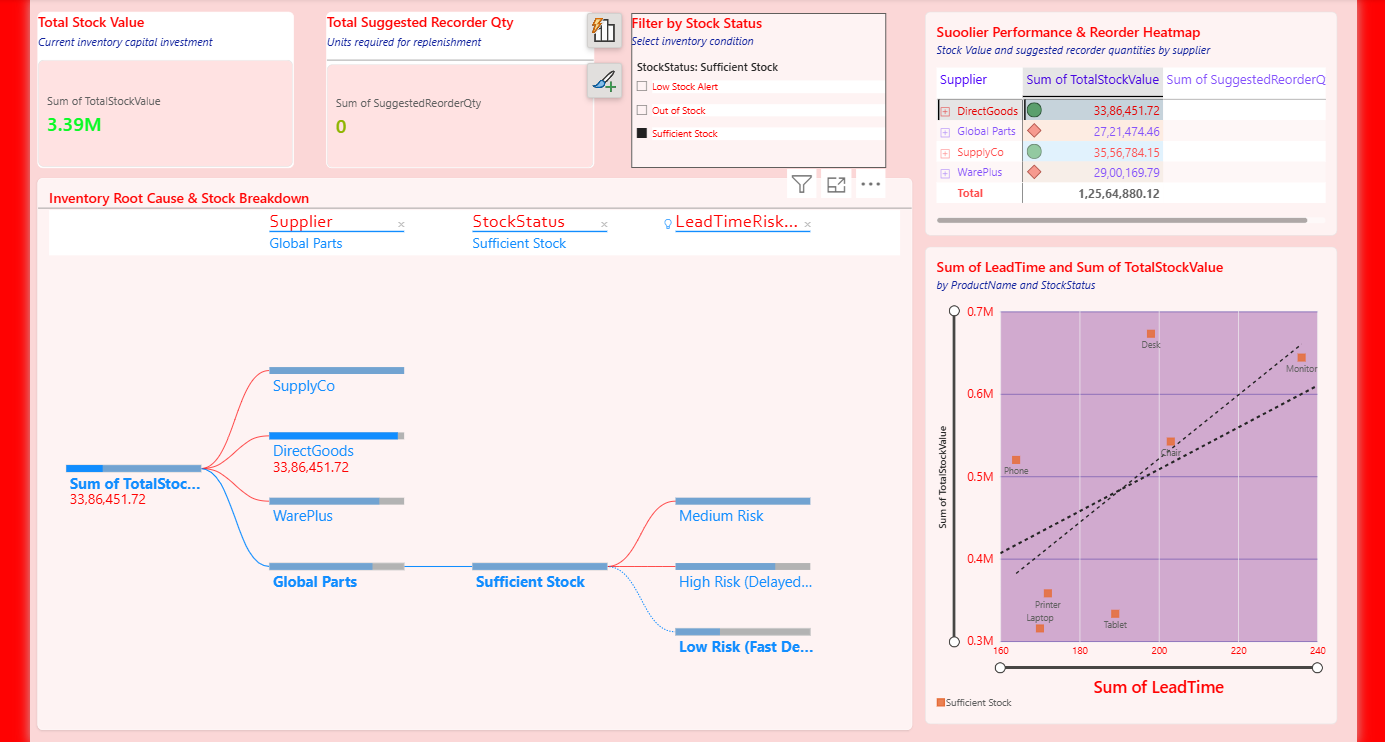

What the dashboard file says about the page in this screenshot:
{"tool":"powerbi","page":{"name":"Page 1","canvas":[1920,1080],"ordinal":0},"visuals":[{"type":"cardVisual","title":"Total Stock Value","fields":{"Data":["Sum(Clean_Inventory_Data.TotalStockValue)"]},"box":[10.7,19.2,371.2,226.1],"z":0},{"type":"cardVisual","title":"Total Suggested Recorder Qty","fields":{"Data":["Sum(Clean_Inventory_Data.SuggestedReorderQty)"]},"box":[428.8,19.2,388.3,226.1],"z":1},{"type":"slicer","title":"Filter by Stock Status","fields":{"Values":["Clean_Inventory_Data.StockStatus"]},"box":[870.4,21.3,369.1,224],"z":2},{"type":"pivotTable","title":"Suoolier Performance & Reorder Heatmap","fields":{"Rows":["Clean_Inventory_Data.Supplier","Clean_Inventory_Data.ProductName"],"Values":["Sum(Clean_Inventory_Data.TotalStockValue)","Sum(Clean_Inventory_Data.SuggestedReorderQty)"]},"box":[1295.7,19.9,597.2,323.9],"z":3},{"type":"decompositionTreeVisual","title":"Inventory Root Cause & Stock Breakdown","fields":{"Analyze":["Sum(Clean_Inventory_Data.TotalStockValue)"],"ExplainBy":["Clean_Inventory_Data.Supplier","Clean_Inventory_Data.StockStatus","Clean_Inventory_Data.LeadTimeRiskCategory"]},"box":[11,260,1266,799],"z":4},{"type":"scatterChart","fields":{"Category":["Clean_Inventory_Data.ProductName"],"Series":["Clean_Inventory_Data.StockStatus"],"X":["Sum(Clean_Inventory_Data.LeadTime)"],"Y":["Sum(Clean_Inventory_Data.TotalStockValue)"]},"box":[1295.7,360.1,597.2,691.3],"z":5}]}

Visuals, with their boxes on the page's 1920x1080 design canvas (x1, y1, x2, y2). These are canvas units, not pixel positions in the 1385x742 screenshot, which may show the page scaled, cropped or inside an application window:
"Total Stock Value" cardVisual: left=11, top=19, right=382, bottom=245
"Total Suggested Recorder Qty" cardVisual: left=429, top=19, right=817, bottom=245
"Filter by Stock Status" slicer: left=870, top=21, right=1240, bottom=245
"Suoolier Performance & Reorder Heatmap" pivotTable: left=1296, top=20, right=1893, bottom=344
"Inventory Root Cause & Stock Breakdown" decompositionTreeVisual: left=11, top=260, right=1277, bottom=1059
scatterChart - Clean_Inventory_Data.ProductName x Clean_Inventory_Data.StockStatus: left=1296, top=360, right=1893, bottom=1051
